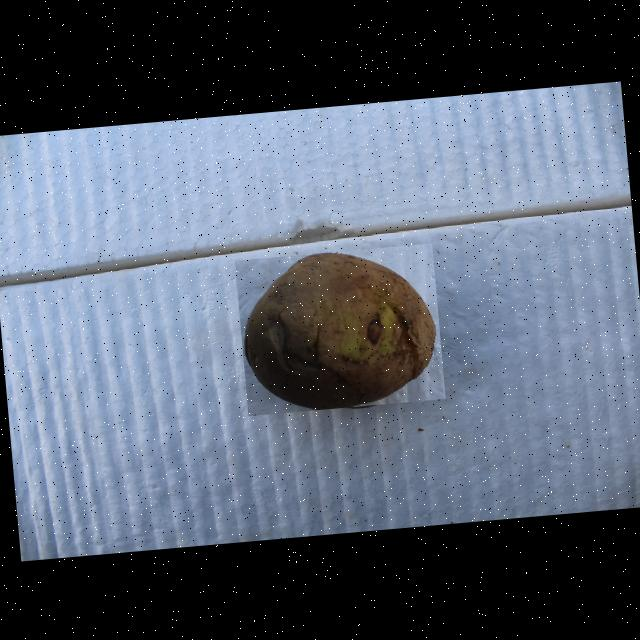Diseased-fungal potato: (233, 242, 444, 415)
